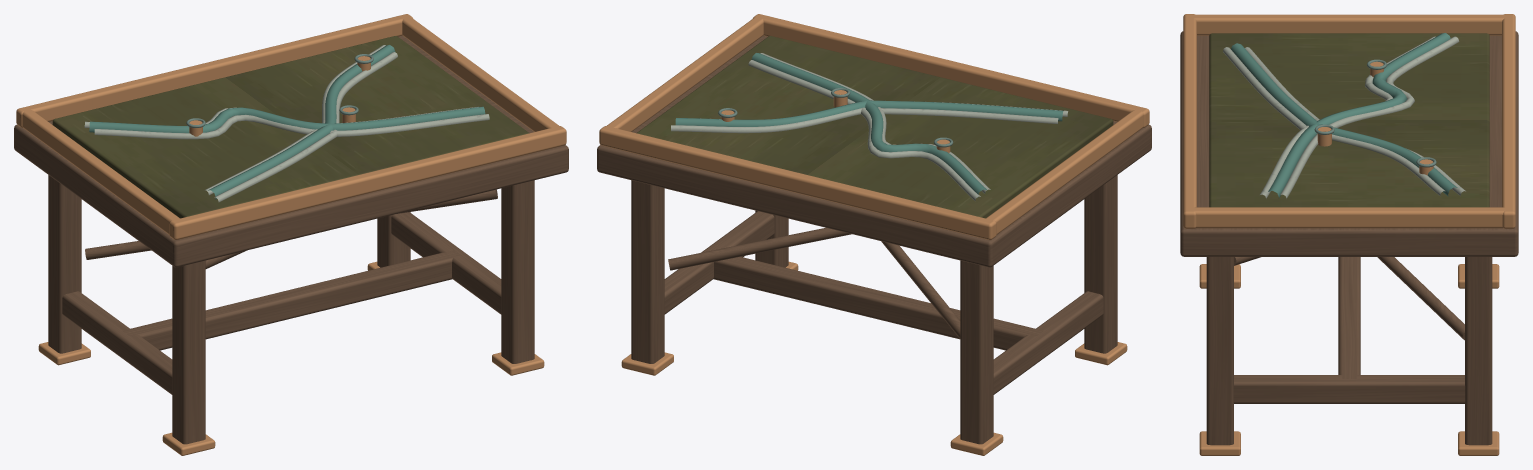
File: bellroot-fen-floodward-marches-old-tide-map-table-1c58788c__32914.glb
3 renders of one model, left to right at view 1: azimuth 30°, elevation 25°; view 2: azimuth 150°, elevation 25°; view 3: azimuth 270°, elevation 25°, orthographic. The views are drawn at different scales.
Parts seen in each view (by area): view 1: old-tide-map-table; view 2: old-tide-map-table; view 3: old-tide-map-table.
Part boxes in pixels (left/top/right/bottom): old-tide-map-table: left=14, top=14, right=568, bottom=455; old-tide-map-table: left=597, top=14, right=1151, bottom=455; old-tide-map-table: left=1180, top=14, right=1518, bottom=455.
Size of the model in its own units: 1.73 by 1.04 by 1.23.
Materials: 6 (3 with a texture image).
